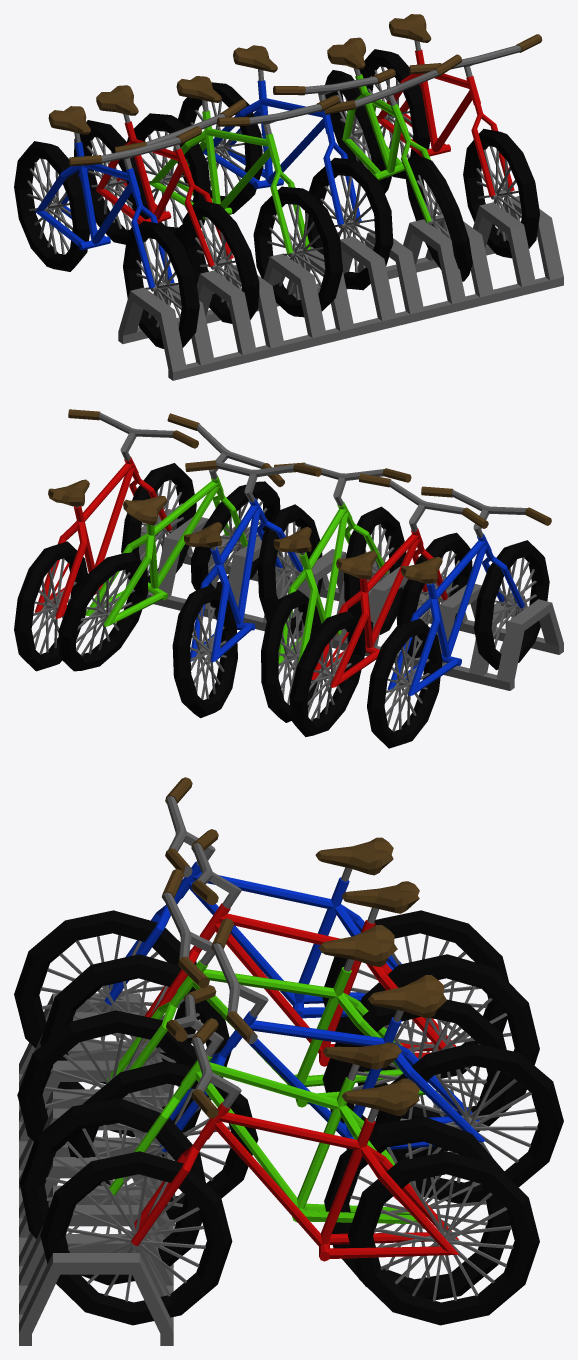
Rendered from Bike_Stand_Full.fbx.
The picture shows the model from 3 angles, top to bottom: view 1: azimuth 30°, elevation 25°; view 2: azimuth 150°, elevation 25°; view 3: azimuth 270°, elevation 25°; orthographic projection. The views are drawn at different scales.
Parts seen in each view (by area): view 1: Bike Stand Full; view 2: Bike Stand Full; view 3: Bike Stand Full.
Part boxes in pixels (x1,y1,x2,y2): Bike Stand Full: (14,14,563,380); Bike Stand Full: (14,409,563,748); Bike Stand Full: (14,777,563,1345).
Bounding box in the file's own units: 3.34 × 1.33 × 2.34.
